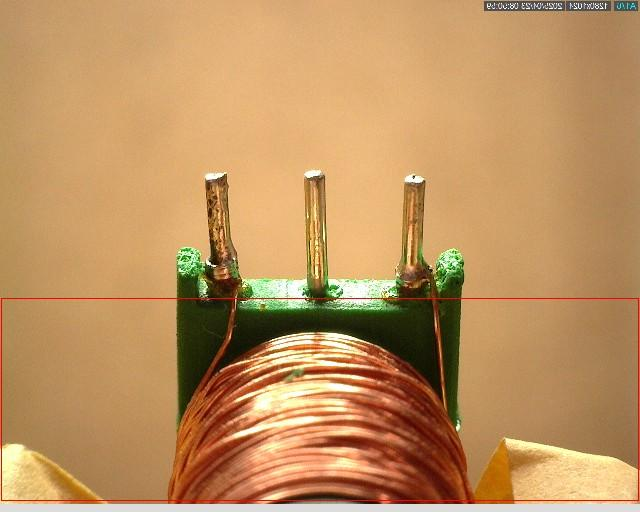bad: (202, 168, 240, 293)
good: (396, 167, 434, 296), (299, 169, 329, 293)
